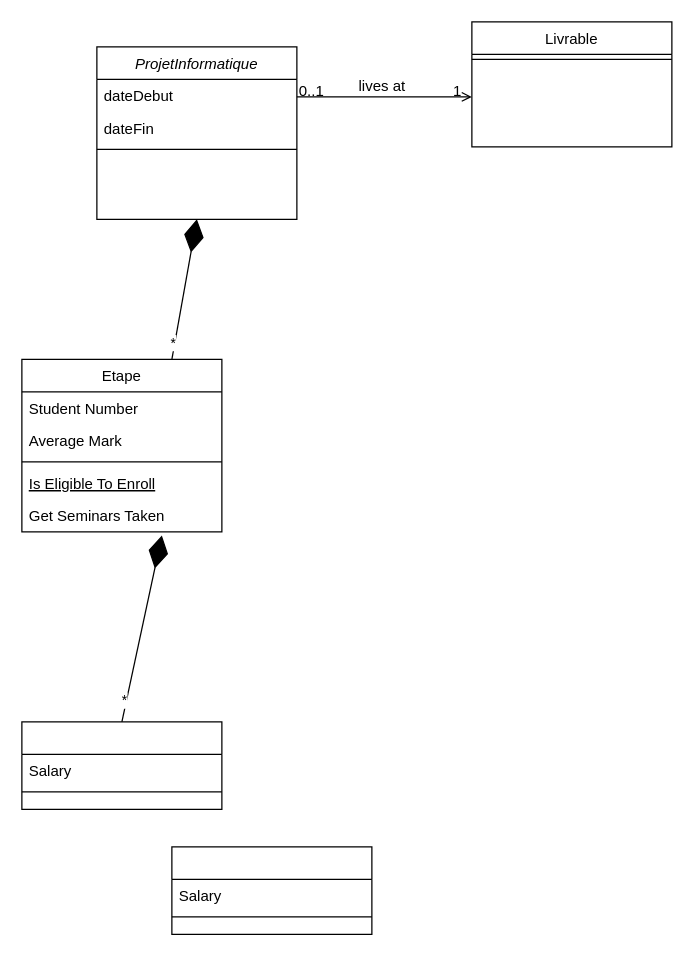
Image size: 694x956. Some labels were removed from this diagram. Each missing label, with the box of its shape:
Phase: (21, 721, 222, 809)
Tache: (171, 846, 372, 934)
